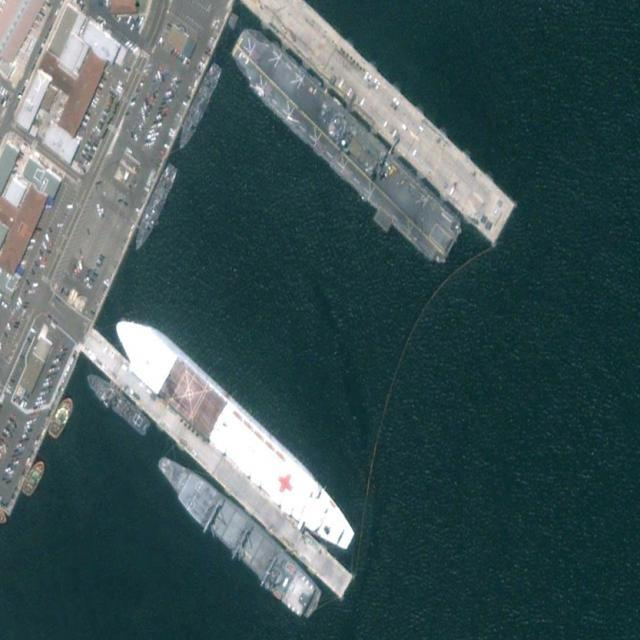Auxiliary Ships: (104, 297, 363, 566)
Hovercraft: (45, 391, 77, 441), (19, 456, 47, 500)
Landing: (218, 16, 467, 280)
Other Ship: (146, 438, 327, 634), (81, 366, 154, 439), (174, 56, 224, 156), (130, 157, 180, 256)
